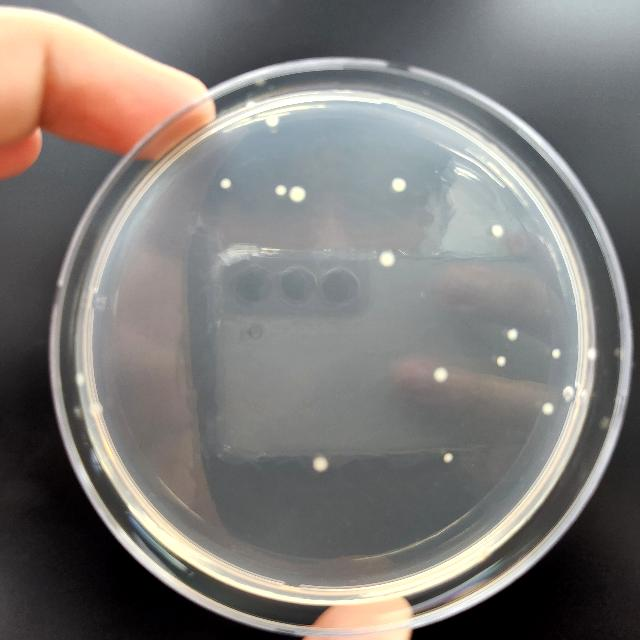colony: (380, 250, 396, 268), (290, 185, 306, 202), (87, 399, 103, 416), (313, 456, 329, 472), (392, 177, 406, 193), (434, 367, 448, 383), (586, 346, 598, 362), (563, 386, 575, 402), (266, 114, 278, 128), (542, 402, 554, 416), (492, 225, 504, 238), (275, 184, 287, 196), (76, 372, 85, 388), (508, 327, 518, 341), (497, 355, 507, 367), (220, 178, 232, 188), (551, 348, 561, 359), (443, 453, 453, 463)
